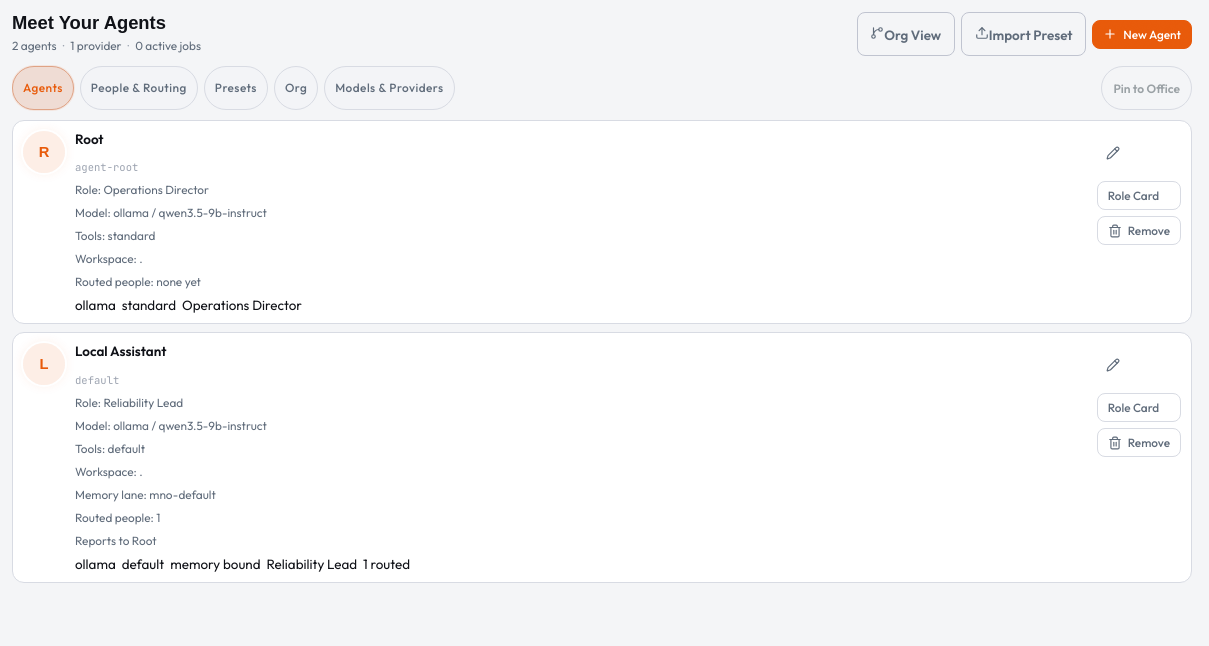
TeamPage Trenches parity › restores exact routing when the gateway refuses agent removal
The image size is (1209, 646).
What coordinates should you click on to do the following:
click the 2nd button "Remove"
I would click on:
 (1139, 443)
Its box is 1097,428 -> 1181,458.
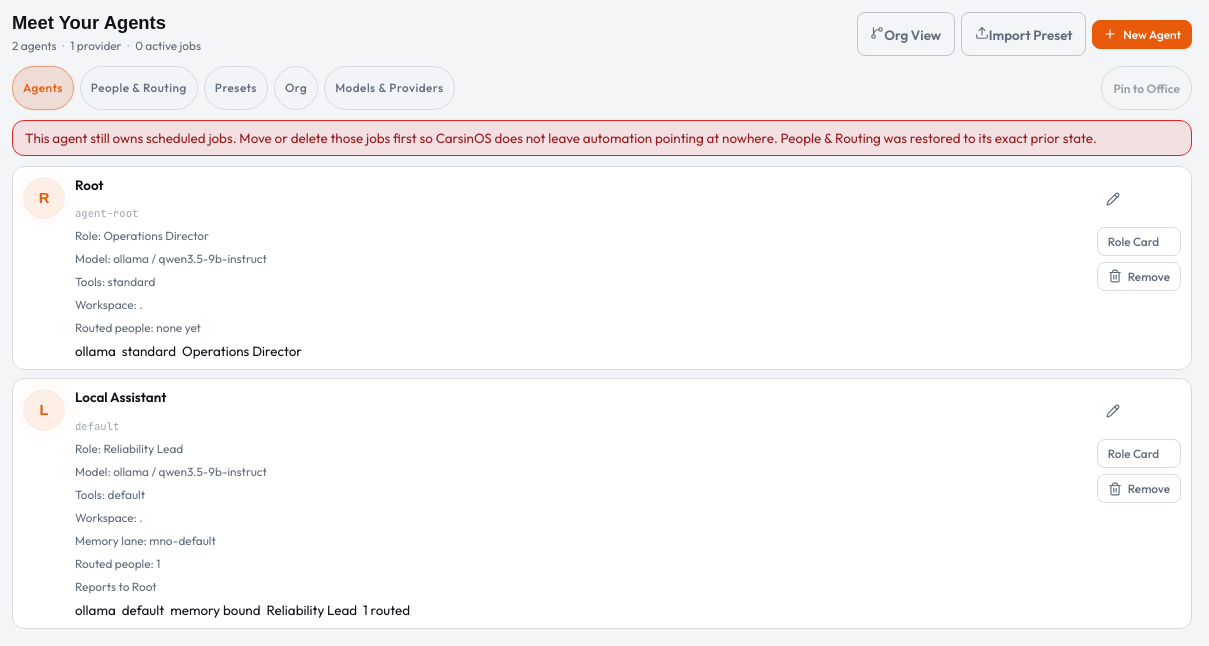
expect the text "People & Routing was restored to its exact prior state." is shown: met, box 25,130 -> 1097,146
